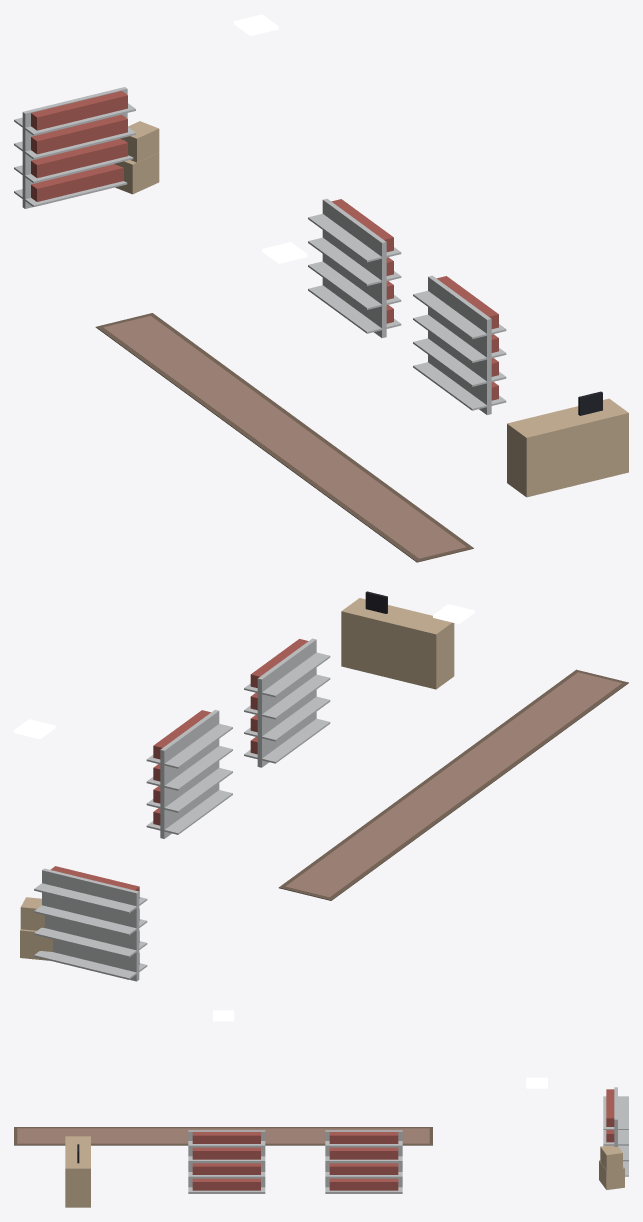
File: fine-s0.glb
3 renders of one model, top to bottom at view 1: azimuth 30°, elevation 25°; view 2: azimuth 150°, elevation 25°; view 3: azimuth 270°, elevation 25°, orthographic. The views are drawn at different scales.
Parts seen in each view (by area): view 1: soft-s0, shelving.000, shop-counter.000, shelf.000, shelf.001, cardboard-box.000; view 2: soft-s0, shelving.000, shop-counter.000, shelf.001, shelf.000, cardboard-box.000; view 3: soft-s0, shelf.000, shelf.001, shop-counter.000, shelving.000, cardboard-box.000.
Part boxes in pixels (bbox=[...]): soft-s0: bbox=[95, 313, 473, 562]; shelving.000: bbox=[14, 87, 135, 208]; shop-counter.000: bbox=[507, 391, 628, 497]; shelf.000: bbox=[308, 198, 401, 337]; shelf.001: bbox=[413, 275, 506, 414]; cardboard-box.000: bbox=[114, 121, 159, 194]; soft-s0: bbox=[278, 669, 628, 900]; shelving.000: bbox=[34, 866, 147, 981]; shop-counter.000: bbox=[341, 591, 454, 689]; shelf.001: bbox=[244, 638, 330, 767]; shelf.000: bbox=[146, 710, 232, 838]; cardboard-box.000: bbox=[20, 897, 52, 960]; soft-s0: bbox=[14, 1127, 432, 1145]; shelf.000: bbox=[325, 1130, 402, 1193]; shelf.001: bbox=[188, 1130, 265, 1193]; shop-counter.000: bbox=[65, 1136, 90, 1207]; shelving.000: bbox=[603, 1087, 628, 1176]; cardboard-box.000: bbox=[599, 1145, 624, 1189].
Bounding box in the file's own units: 4.47 × 3.14 × 14.35.
